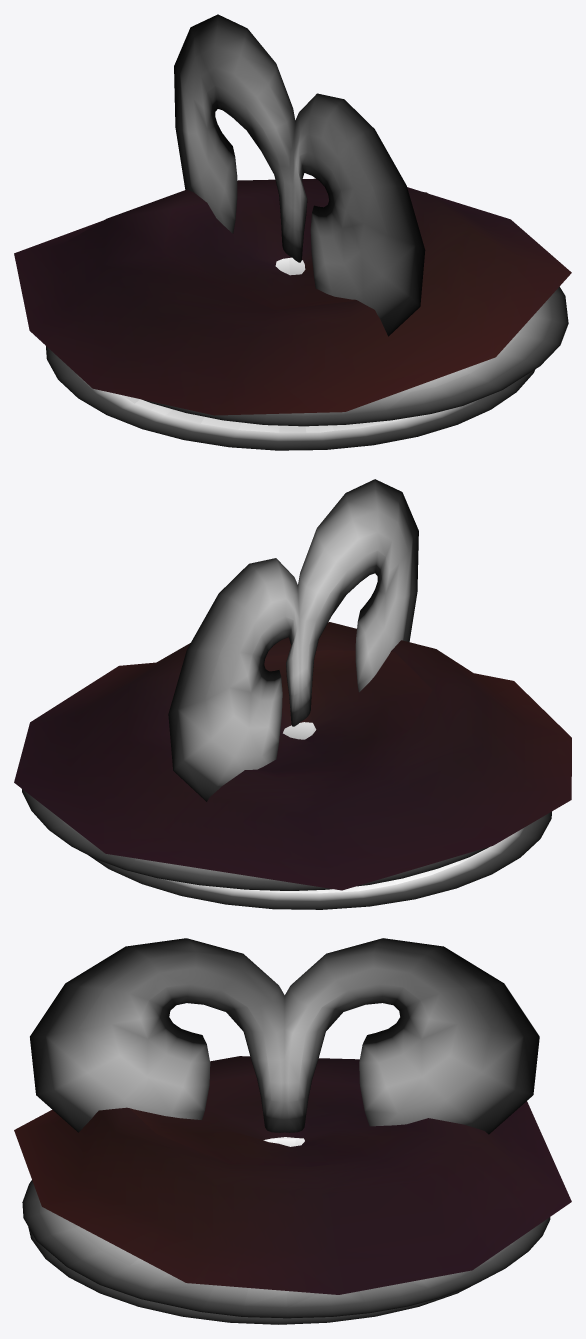
The model's file is ship_exhaust.fbx.
3 views of the same model, one above another, from view 1: azimuth 30°, elevation 25°; view 2: azimuth 150°, elevation 25°; view 3: azimuth 270°, elevation 25° (orthographic).
Visible parts, largest first — view 1: sand_crator.002 (1), whisp, exhaust, dust; view 2: sand_crator.002 (1), whisp, exhaust, dust; view 3: sand_crator.002 (1), whisp, dust, exhaust.
Boxes of the visible parts, x1,y1,x2,y2 form: sand_crator.002 (1): (14, 178, 571, 415); whisp: (174, 14, 425, 336); exhaust: (46, 346, 535, 450); dust: (142, 257, 568, 426); sand_crator.002 (1): (14, 622, 571, 890); whisp: (168, 479, 418, 801); exhaust: (88, 811, 551, 909); dust: (22, 722, 488, 890); sand_crator.002 (1): (14, 1056, 571, 1294); whisp: (30, 938, 539, 1134); dust: (22, 1137, 550, 1318); exhaust: (28, 1227, 472, 1324).
Bounding box in the file's own units: 1173 × 650 × 1163.
